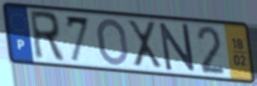2: (195, 24, 227, 76)
7: (63, 14, 93, 63)
N: (157, 22, 198, 73)
O: (96, 17, 130, 68)
R: (27, 9, 67, 64)
X: (126, 19, 165, 71)
